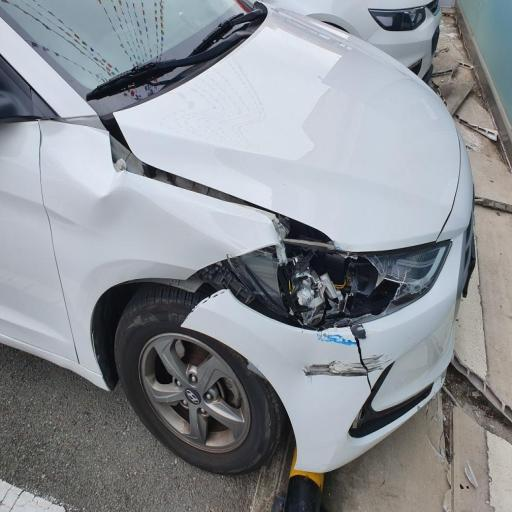broken: (196, 160, 415, 438)
